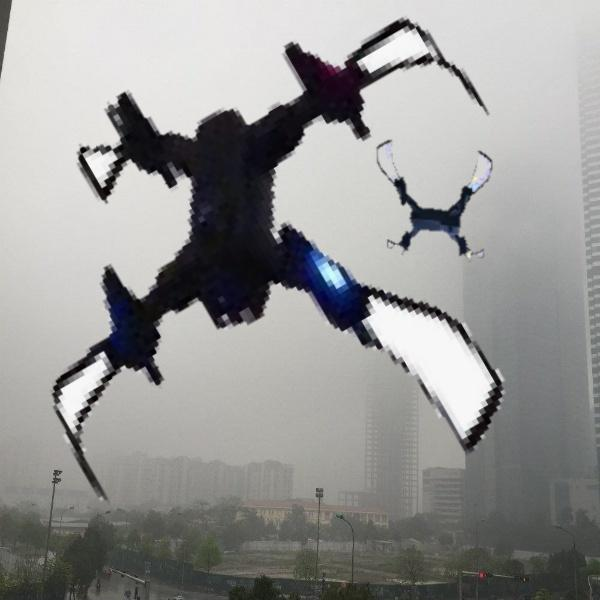drone: (1, 17, 569, 585), (367, 137, 500, 270)
